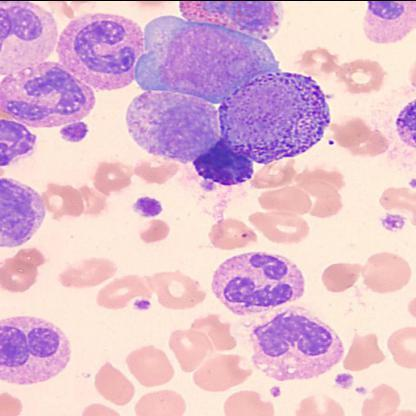Promyelocyte: (218, 70, 336, 166)
Segmented neutrophil: (1, 60, 104, 131)
